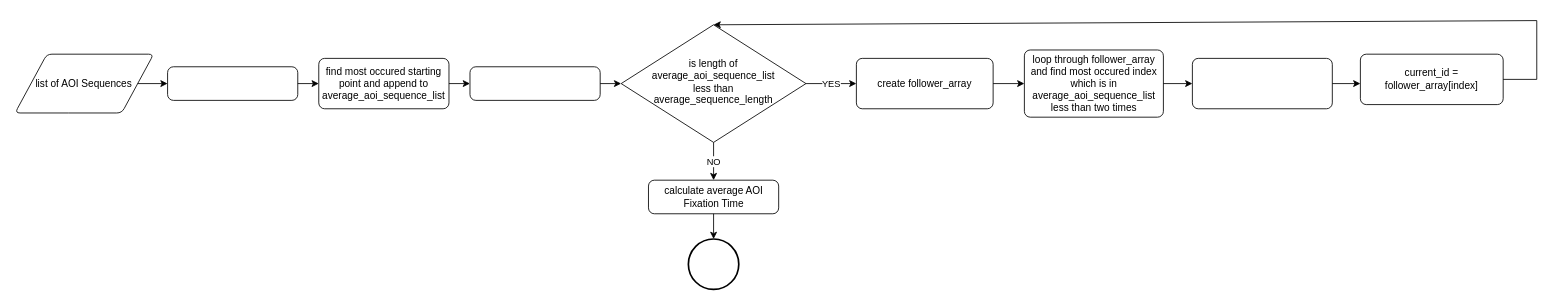
This 1558x305 diagram has some shape labels left out. The centre of each missing label's shape, as x and y in pixels:
"append most occured follower to average_aoi_sequence_list" goes at point (1262, 83).
"calculate average_sequence_length" goes at point (232, 83).
"current_id = starting_point_id" goes at point (534, 83).
"END" goes at point (713, 264).
